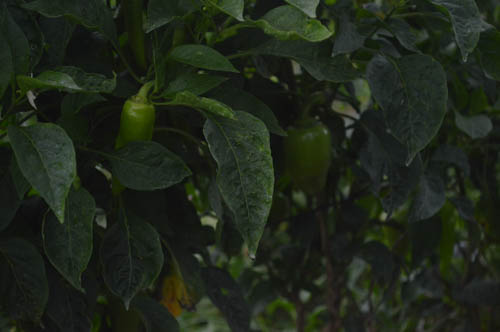ChiliPepper: (111, 101, 156, 192), (281, 126, 334, 192)
